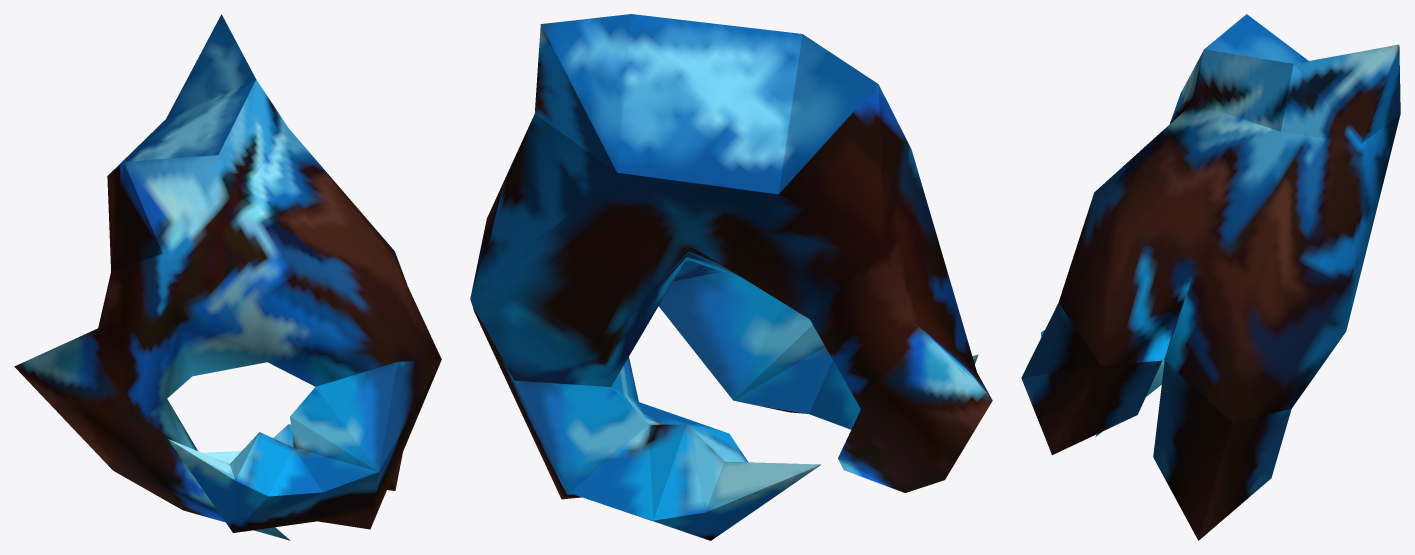
Rendered from 1_Fashi_w_level_97.FBX.
3 views of the same model, side by side, from view 1: azimuth 30°, elevation 25°; view 2: azimuth 150°, elevation 25°; view 3: azimuth 270°, elevation 25° (orthographic). The views are drawn at different scales.
Visible parts, largest first — view 1: 1_Fashi_w_level_97; view 2: 1_Fashi_w_level_97; view 3: 1_Fashi_w_level_97.
Part boxes in pixels (x1=…): 1_Fashi_w_level_97: x1=14, y1=14, x2=441, y2=540; 1_Fashi_w_level_97: x1=470, y1=14, x2=992, y2=540; 1_Fashi_w_level_97: x1=1021, y1=14, x2=1400, y2=540.
Size of the model in its own units: 62.59 by 65.44 by 49.44.
1 material, 1 textured.
